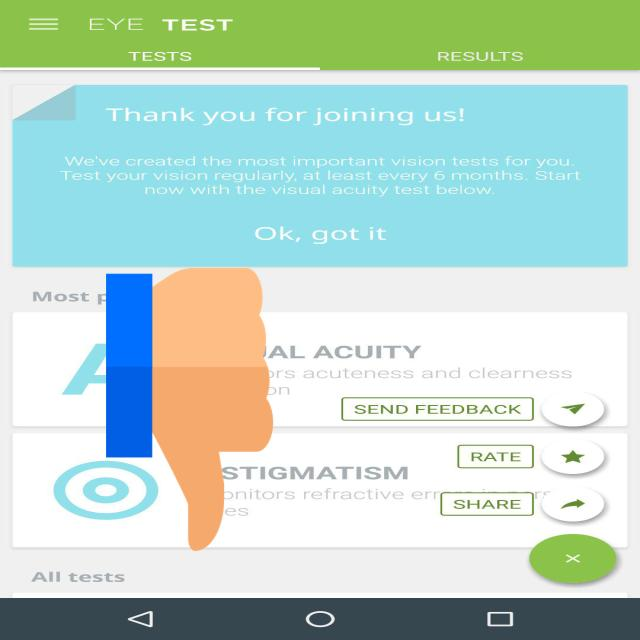obstruction: (106, 261, 273, 558)
